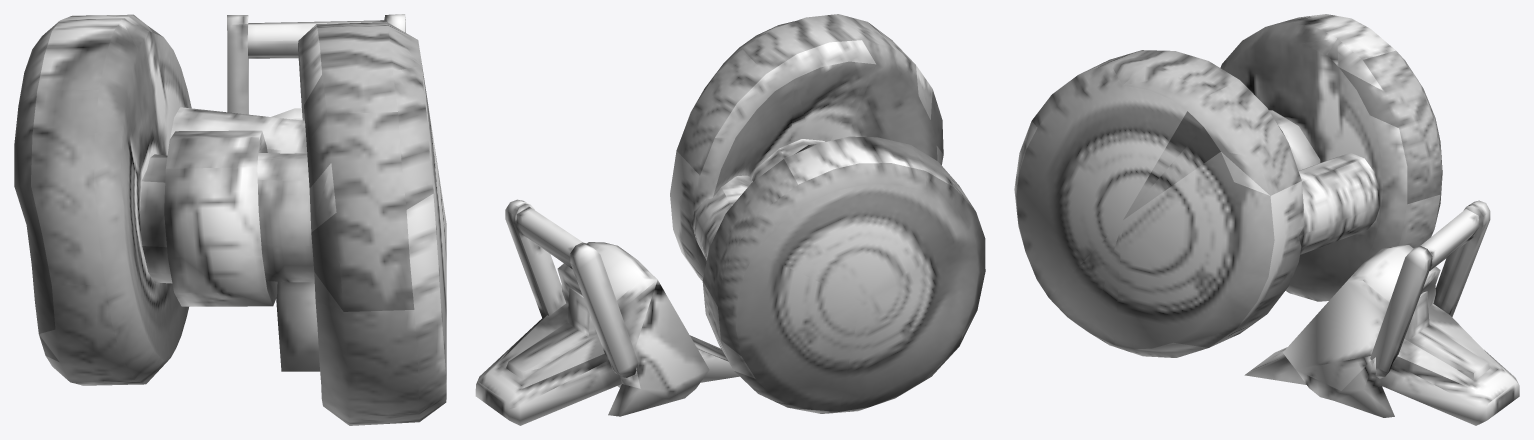
Rendered from bl_foot.glb.
3 views of the same model, side by side, from view 1: azimuth 30°, elevation 25°; view 2: azimuth 150°, elevation 25°; view 3: azimuth 270°, elevation 25° (orthographic). The views are drawn at different scales.
Parts seen in each view (by area): view 1: bl_foot; view 2: bl_foot; view 3: bl_foot.
Part boxes in pixels (box(x1,y1,x2,y2)): bl_foot: box(14, 14, 446, 425); bl_foot: box(475, 14, 985, 425); bl_foot: box(1014, 14, 1519, 425).
Bounding box in the file's own units: 1.11 × 0.8317 × 1.29.
Materials: 3 (3 with a texture image).
